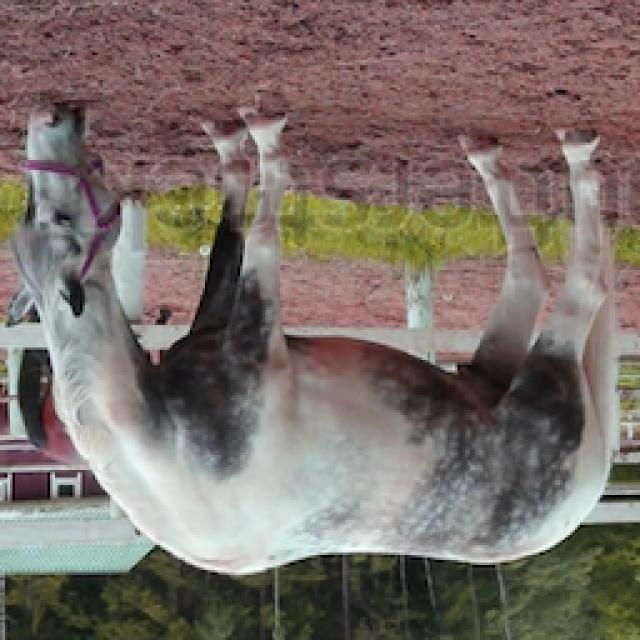Horse: (2, 95, 632, 580)
